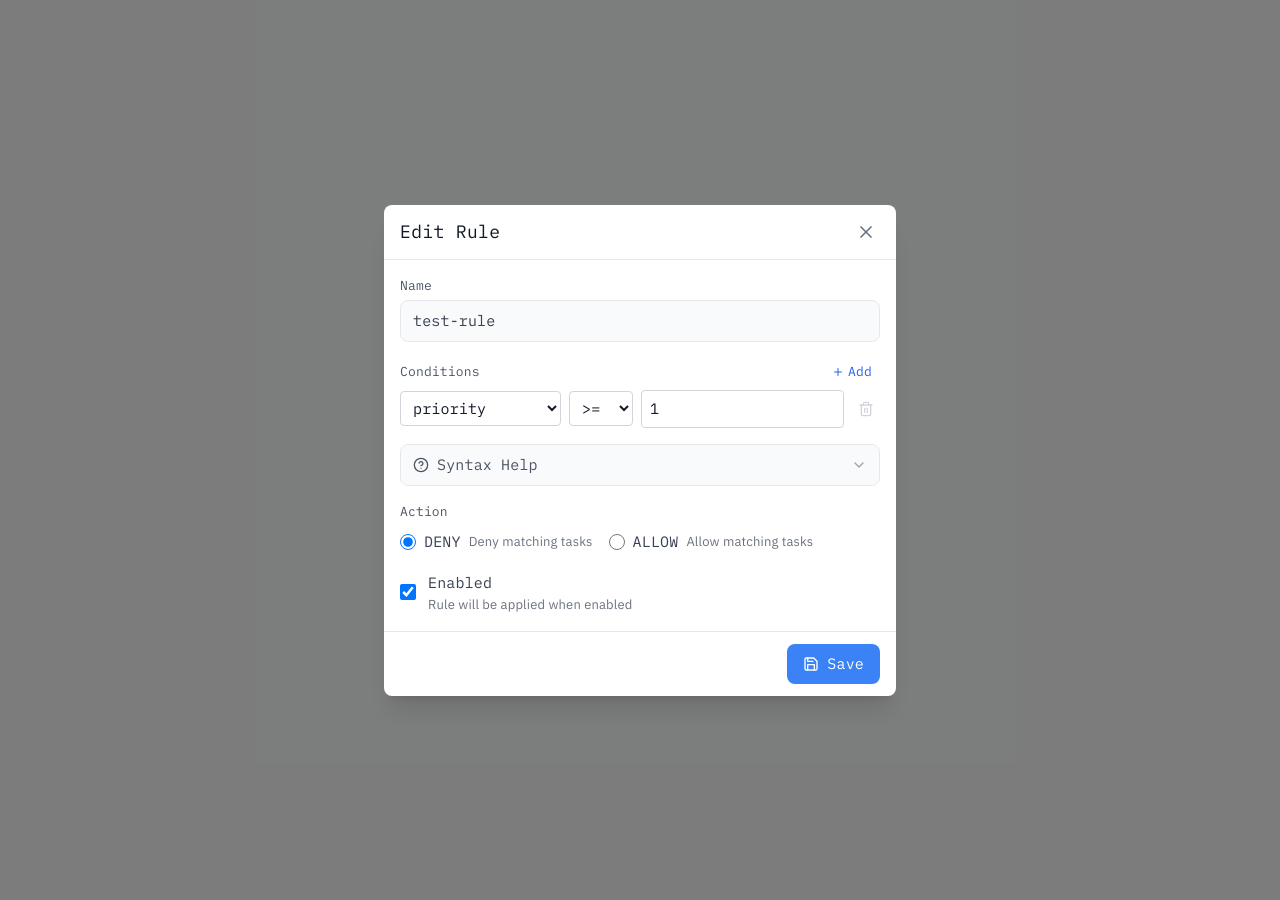
EditRuleModal › validation › shows error message when trying to save with empty conditions
Note: Clear the value input to make condition invalid
Step 1. Clear the field with placeholder "value" → (742, 408), box [641,390,844,428]
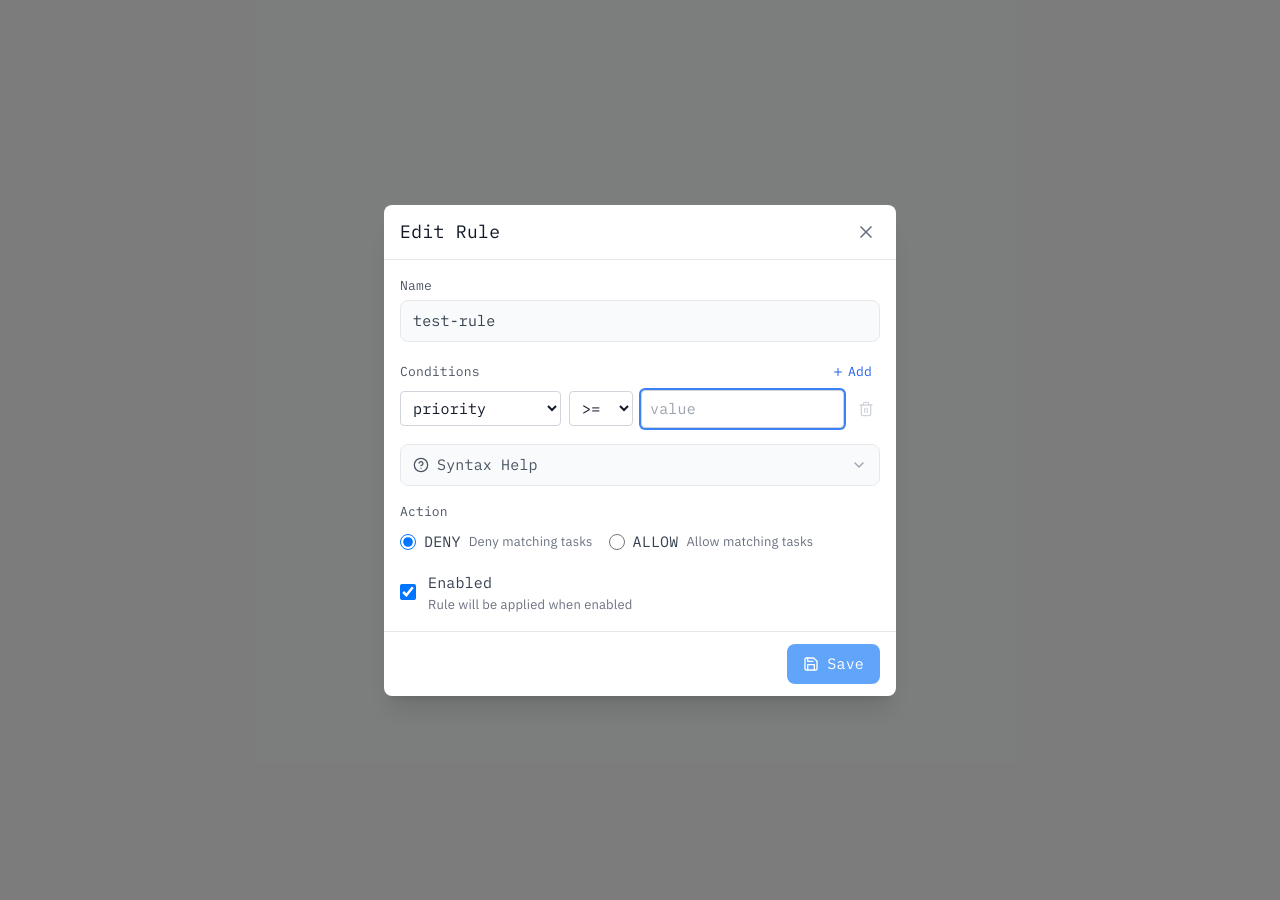
Result: the button "Save" is disabled at [787,644,880,684]
